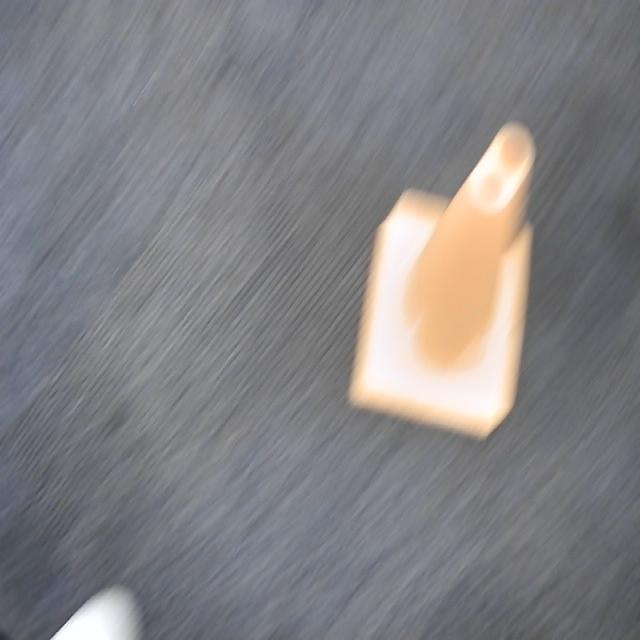cone: (350, 117, 540, 457)
